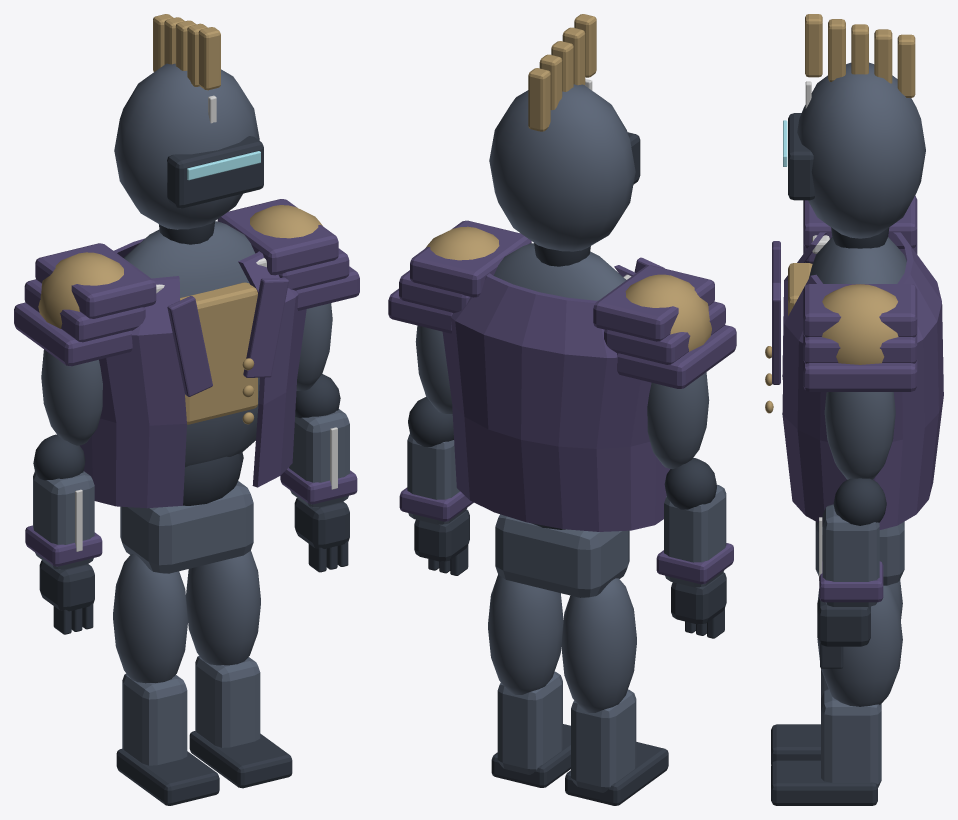
The model's file is strix.glb.
3 views of the same model, side by side, from view 1: azimuth 30°, elevation 25°; view 2: azimuth 150°, elevation 25°; view 3: azimuth 270°, elevation 25° (orthographic).
Visible parts, largest first — view 1: Sentinel cuirass, Helmet, Articulated thorax, Pelvis, Thigh R, Thigh L, Sternum shield, Shin L, Shin R, Upper arm R, Face mask, Sentinel layered pauldron R0 (+27 smaller); view 2: Sentinel cuirass, Helmet, Pelvis, Thigh R, Thigh L, Shin L, Shin R, Upper arm R, Articulated thorax, Sentinel layered pauldron R0, Bracer R, Sentinel layered pauldron L0 (+22 smaller); view 3: Sentinel cuirass, Helmet, Upper arm L, Thigh L, Shin L, Shoulder L, Bracer L, Foot L, Articulated thorax, Sentinel layered pauldron L2, Sentinel layered pauldron L0, Hand L (+17 smaller).
Boxes of the visible parts, x1,y1,x2,y2 form: Sentinel cuirass: (80, 238, 306, 508); Helmet: (114, 63, 259, 229); Articulated thorax: (123, 221, 259, 467); Pelvis: (120, 481, 253, 573); Thigh R: (113, 554, 187, 683); Thigh L: (186, 550, 260, 665); Sternum shield: (180, 282, 257, 424); Shin L: (195, 656, 260, 747); Shin R: (122, 673, 187, 765); Upper arm R: (41, 349, 102, 445); Face mask: (167, 136, 263, 208); Sentinel layered pauldron R0: (35, 243, 156, 318); Sentinel cuirass: (442, 265, 670, 531); Helmet: (489, 84, 635, 251); Pelvis: (495, 514, 629, 597); Thigh R: (561, 578, 636, 712); Thigh L: (488, 574, 563, 694); Shin L: (497, 671, 562, 774); Shin R: (571, 689, 636, 792); Upper arm R: (647, 372, 709, 468); Articulated thorax: (493, 243, 626, 300); Sentinel layered pauldron R0: (593, 265, 714, 341); Bracer R: (664, 484, 726, 587); Sentinel layered pauldron L0: (410, 220, 531, 297); Sentinel cuirass: (782, 232, 943, 529); Helmet: (797, 62, 925, 238); Upper arm L: (824, 392, 895, 479); Thigh L: (817, 585, 902, 706); Shin L: (821, 689, 881, 787); Shoulder L: (822, 284, 898, 364); Bracer L: (822, 504, 879, 606); Foot L: (771, 760, 877, 805); Articulated thorax: (809, 237, 906, 283); Sentinel layered pauldron L2: (803, 360, 917, 391); Sentinel layered pauldron L0: (803, 284, 917, 337); Hand L: (817, 598, 870, 646).
Size of the model in its own units: 1 by 2.35 by 0.502.
